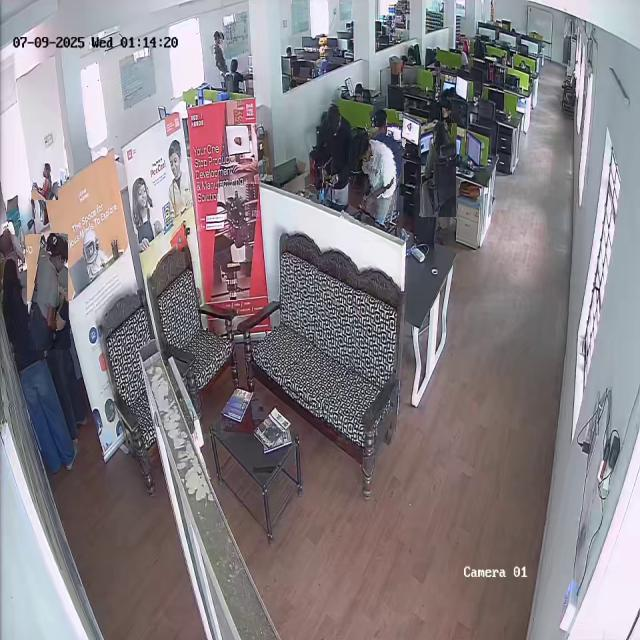person: (344, 132, 402, 228), (26, 234, 70, 350), (2, 257, 36, 407), (310, 105, 353, 204), (420, 123, 457, 217), (366, 108, 402, 154), (208, 31, 228, 83), (33, 162, 58, 200)
